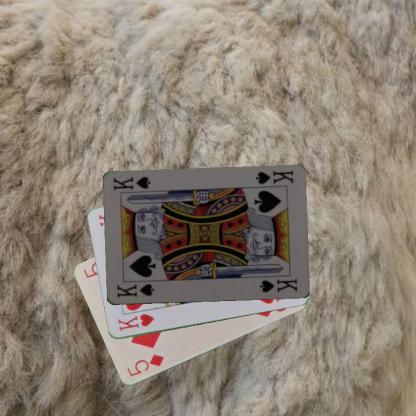5d: (124, 352, 165, 378)
Kh: (115, 312, 155, 332)
Ks: (252, 168, 295, 186), (115, 281, 156, 299)
